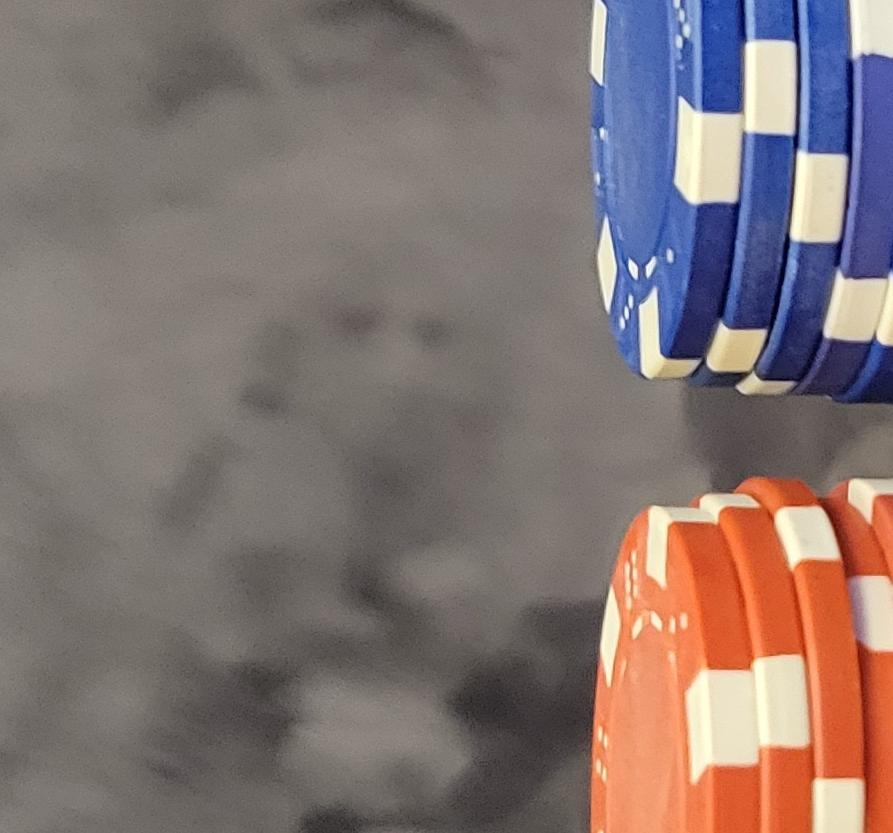Chip: (1, 368, 412, 833)
